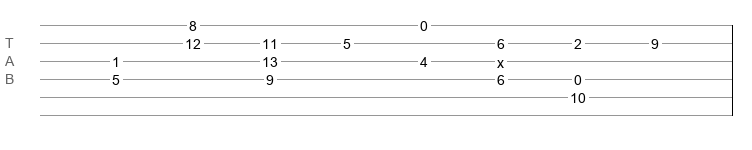0: (420, 18, 428, 28), (574, 72, 582, 82)
1: (112, 54, 120, 64)
10: (570, 90, 586, 100)
11: (262, 36, 278, 46)
12: (185, 36, 201, 46)
13: (262, 54, 278, 64)
2: (574, 36, 582, 46)
4: (420, 54, 428, 64)
5: (112, 72, 120, 82), (343, 36, 351, 46)
6: (497, 72, 505, 82), (497, 36, 505, 46)
8: (189, 18, 197, 28)
9: (266, 72, 274, 82), (651, 36, 659, 46)
x: (497, 55, 504, 63)
